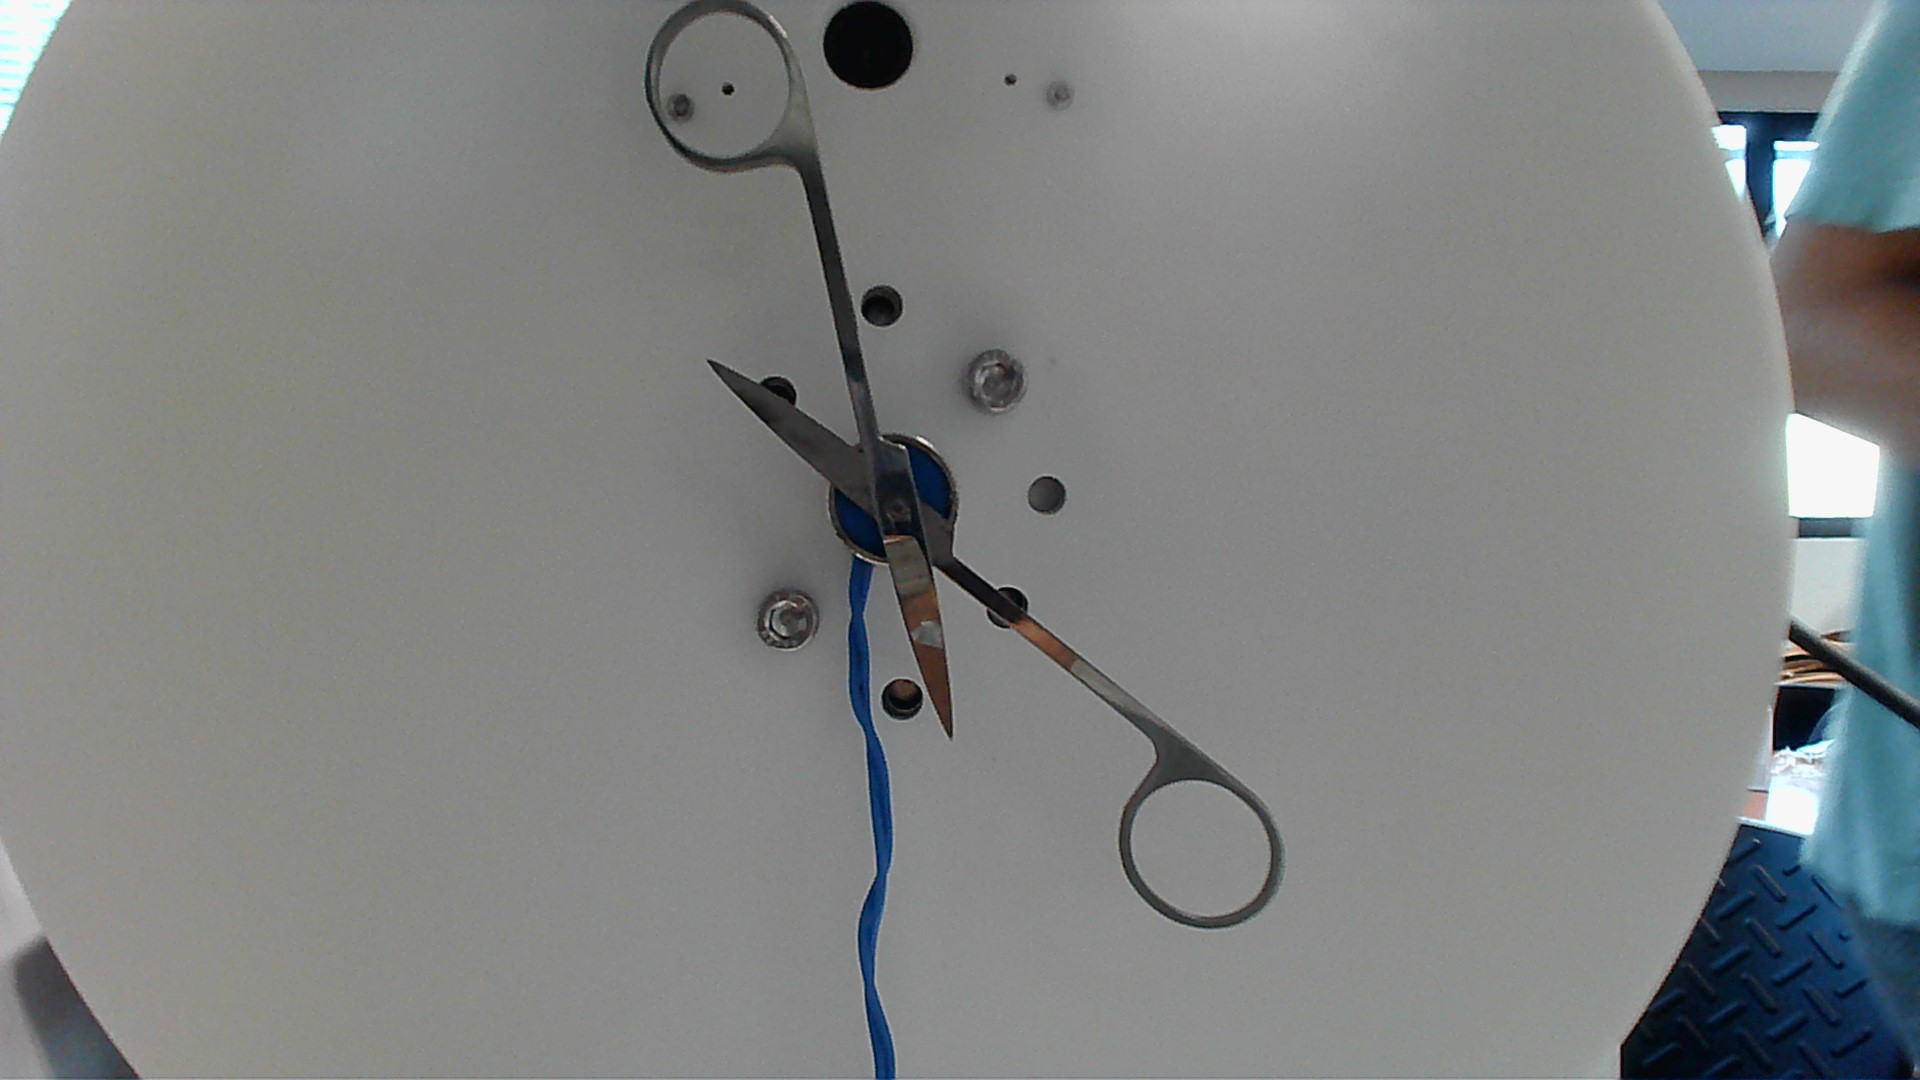Tissues: (909, 607, 945, 657)
